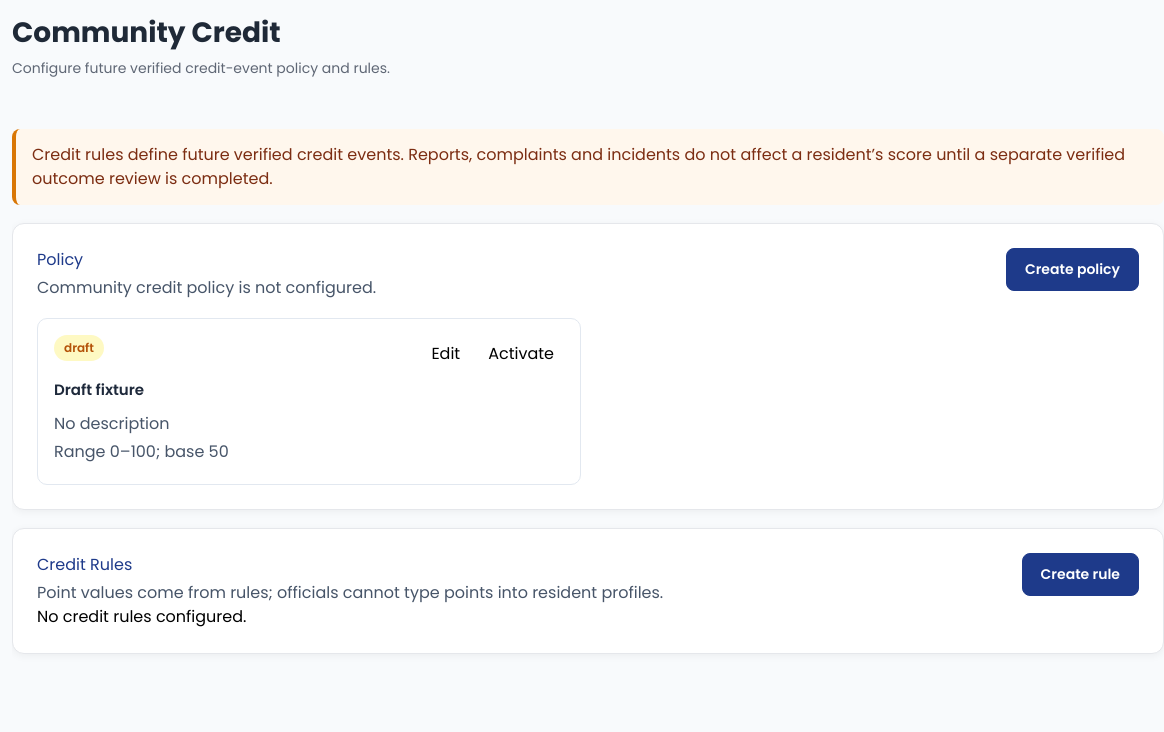
Test case: activation reports the actual server enrollment count
The width and height of the screenshot is (1164, 732).
Click the button "Activate" at (521, 354), box x1=478 y1=335 x2=564 y2=373
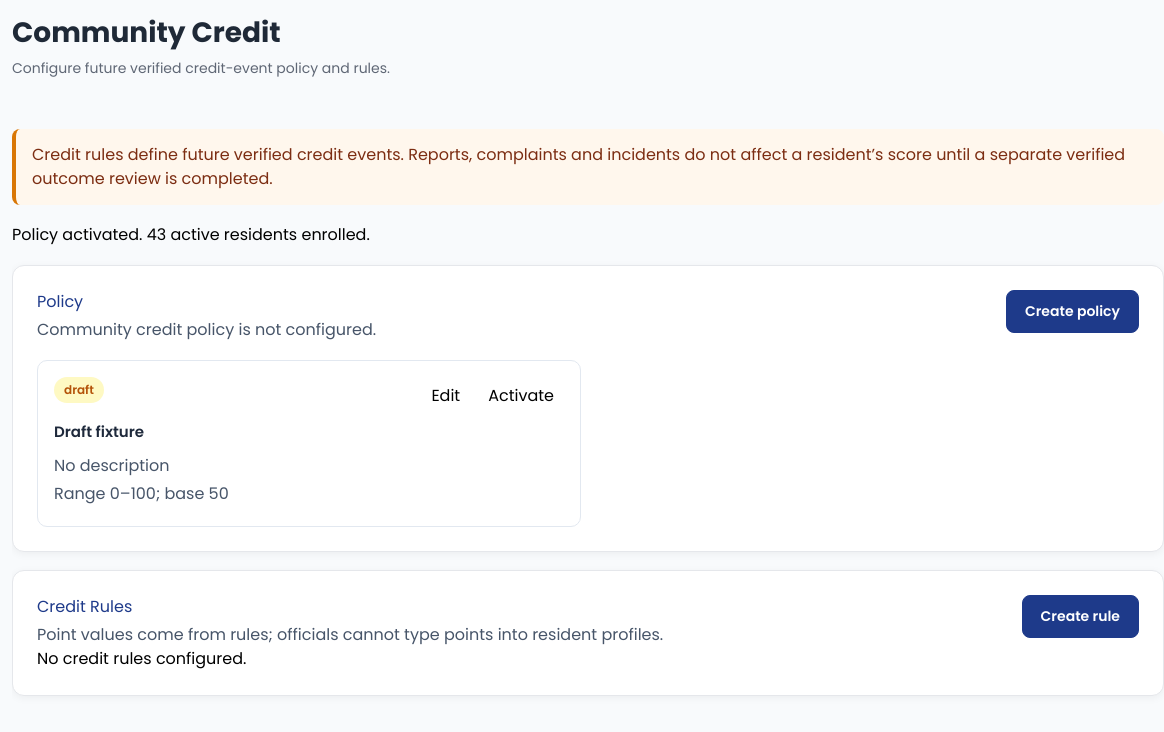
Expected: the text "Policy activated. 43 active residents enrolled." is shown, x1=12 y1=223 x2=370 y2=246
